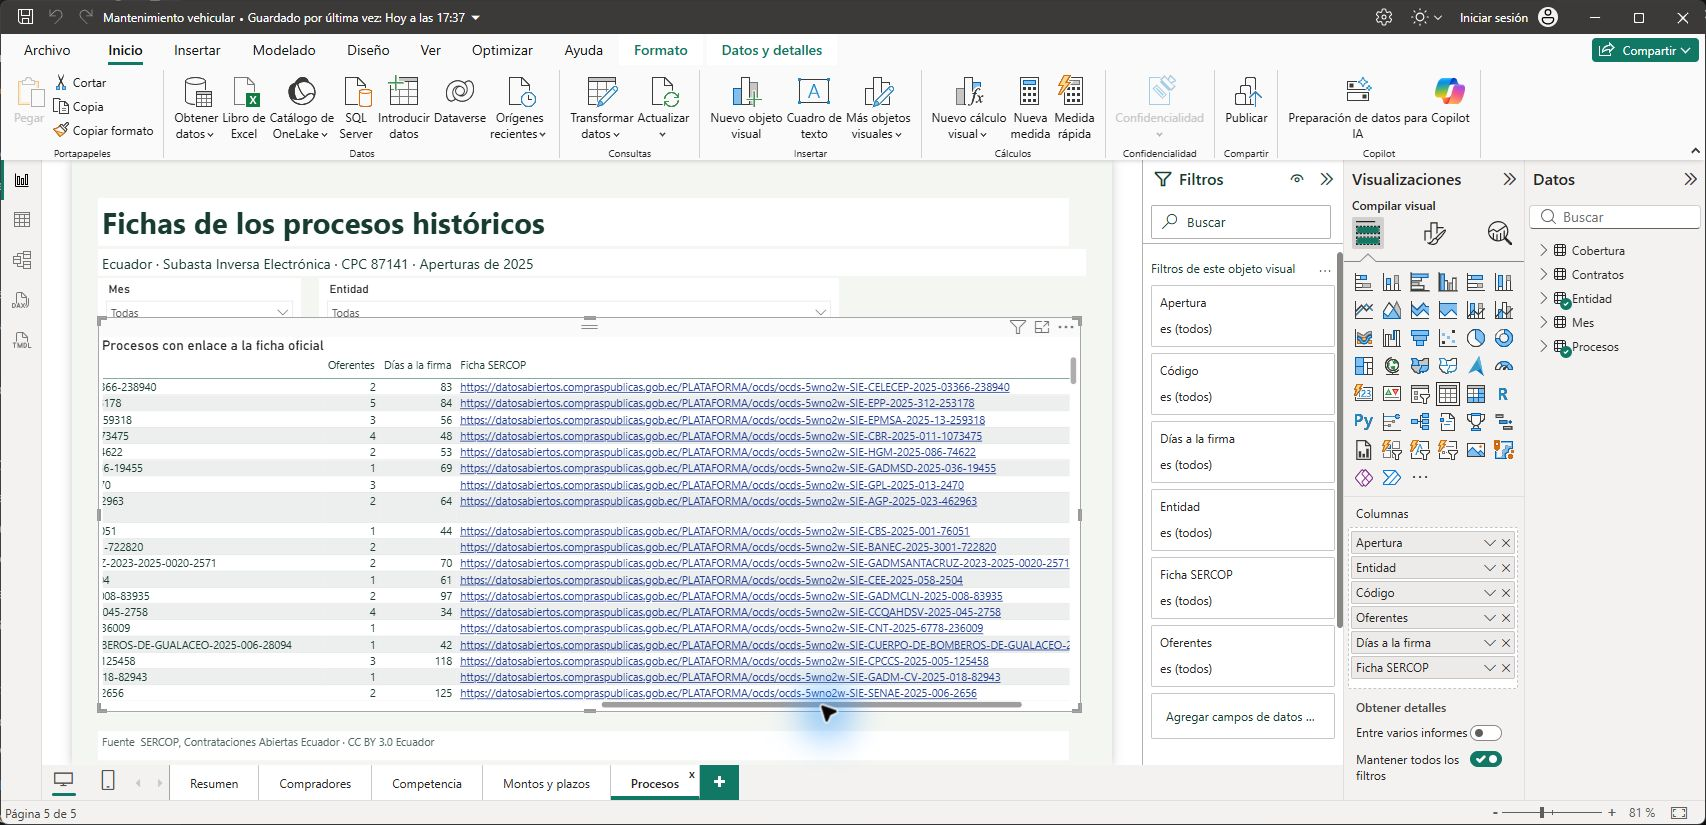

Layout of this report page (visuals, bound fields, positions):
{"tool":"powerbi","page":{"name":"Procesos","canvas":[1280,720],"ordinal":4},"visuals":[{"type":"textbox","box":[32,22,1195,59],"z":100},{"type":"textbox","box":[32,85,1216,33],"z":200},{"type":"slicer","fields":{"Values":["Mes.Mes"]},"box":[32,121,250,52],"z":300},{"type":"slicer","fields":{"Values":["Entidad.Entidad"]},"box":[304,121,640,52],"z":400},{"type":"textbox","box":[32,678,1195,36],"z":500},{"type":"tableEx","title":"Procesos con enlace a la ficha oficial","fields":{"Values":["Procesos.Apertura","Entidad.Entidad","Procesos.Código","Procesos.Oferentes","Procesos.Días a la firma","Procesos.Ficha SERCOP"]},"box":[32,193,1210,462],"z":600}]}

Visuals, with their boxes on the page's 1280x720 design canvas (x1, y1, x2, y2). These are canvas units, not pixel positions in the 1706x825 screenshot, which may show the page scaled, cropped or inside an application window:
textbox: 32/22/1227/81
textbox: 32/85/1248/118
slicer - Mes.Mes: 32/121/282/173
slicer - Entidad.Entidad: 304/121/944/173
textbox: 32/678/1227/714
"Procesos con enlace a la ficha oficial" tableEx: 32/193/1242/655
